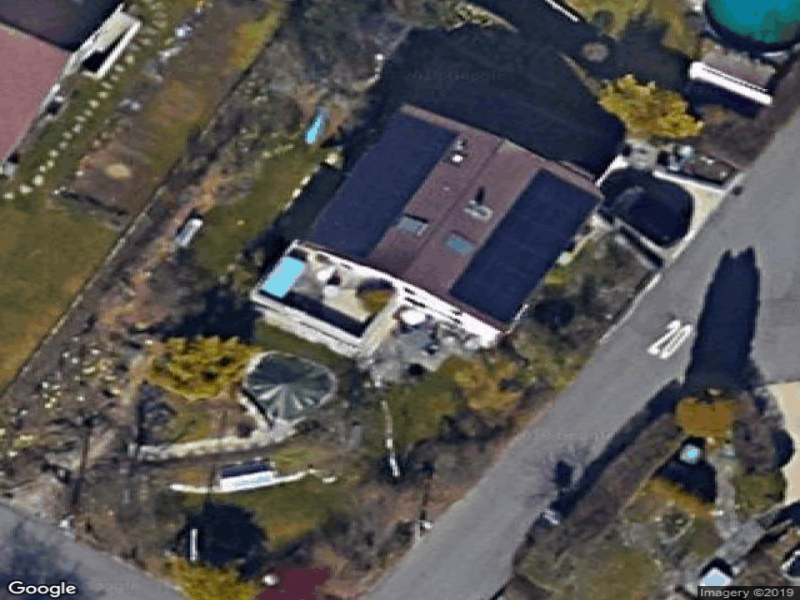pv: (450, 169, 598, 331), (304, 114, 459, 262)
